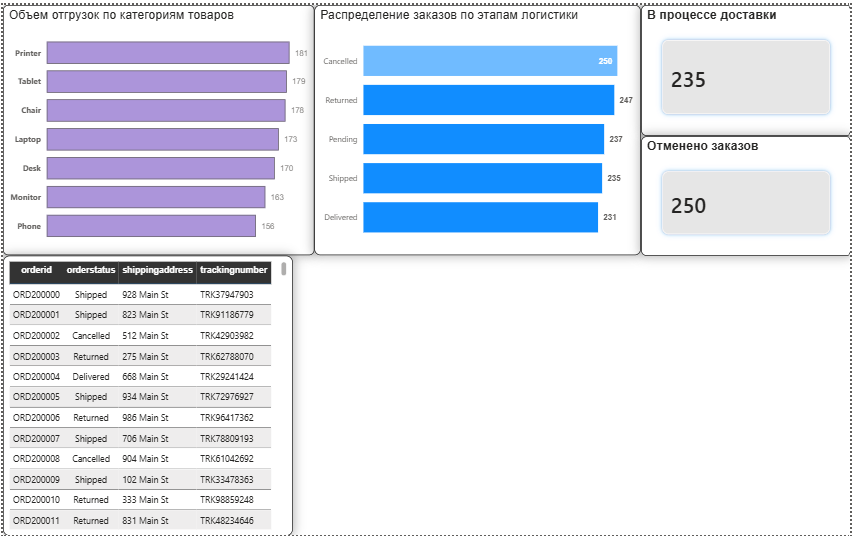

The page's visual inventory and layout, read from the dashboard file:
{"tool":"powerbi","page":{"name":"Страница 2","canvas":[1280,800],"ordinal":1},"visuals":[{"type":"barChart","title":"Объем отгрузок по категориям товаров","fields":{"Category":["clean_sales.product"],"Y":["CountNonNull(clean_logistics.orderid)"]},"box":[0,0,470,377.5],"z":0},{"type":"clusteredBarChart","title":"Распределение заказов по этапам логистики","fields":{"Category":["clean_logistics.orderstatus"],"Y":["CountNonNull(clean_logistics.orderid)"]},"box":[470,0,492.5,377.5],"z":1000},{"type":"tableEx","fields":{"Values":["clean_logistics.orderid","clean_logistics.orderstatus","clean_logistics.shippingaddress","clean_logistics.trackingnumber"]},"box":[0,377.5,437.5,422.5],"z":2000},{"type":"cardVisual","title":"В процессе доставки","fields":{"Data":["Count(clean_logistics.orderid)"]},"box":[962.5,0,317.5,197.5],"z":3000},{"type":"cardVisual","title":"Отменено заказов","fields":{"Data":["Count(clean_logistics.orderid)"]},"box":[962.5,197.5,317.5,180],"z":4000}]}

Visuals, with their boxes in screenshot pixels (x1, y1, x2, y2), scaled from the page's 1280x800 canvas onto the 852x536 screenshot:
"Объем отгрузок по категориям товаров" barChart: x1=0 y1=0 x2=313 y2=253
"Распределение заказов по этапам логистики" clusteredBarChart: x1=313 y1=0 x2=641 y2=253
tableEx - clean_logistics.orderid x clean_logistics.orderstatus: x1=0 y1=253 x2=291 y2=535
"В процессе доставки" cardVisual: x1=641 y1=0 x2=851 y2=132
"Отменено заказов" cardVisual: x1=641 y1=132 x2=851 y2=253
